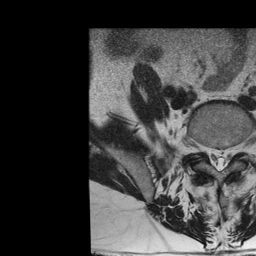CCS_normal: (215, 140, 223, 179)
LFS_normal: (232, 135, 241, 164)
LLS_normal: (224, 140, 232, 171)
RFS_normal: (200, 135, 207, 161)
RLS_normal: (207, 141, 216, 172)
